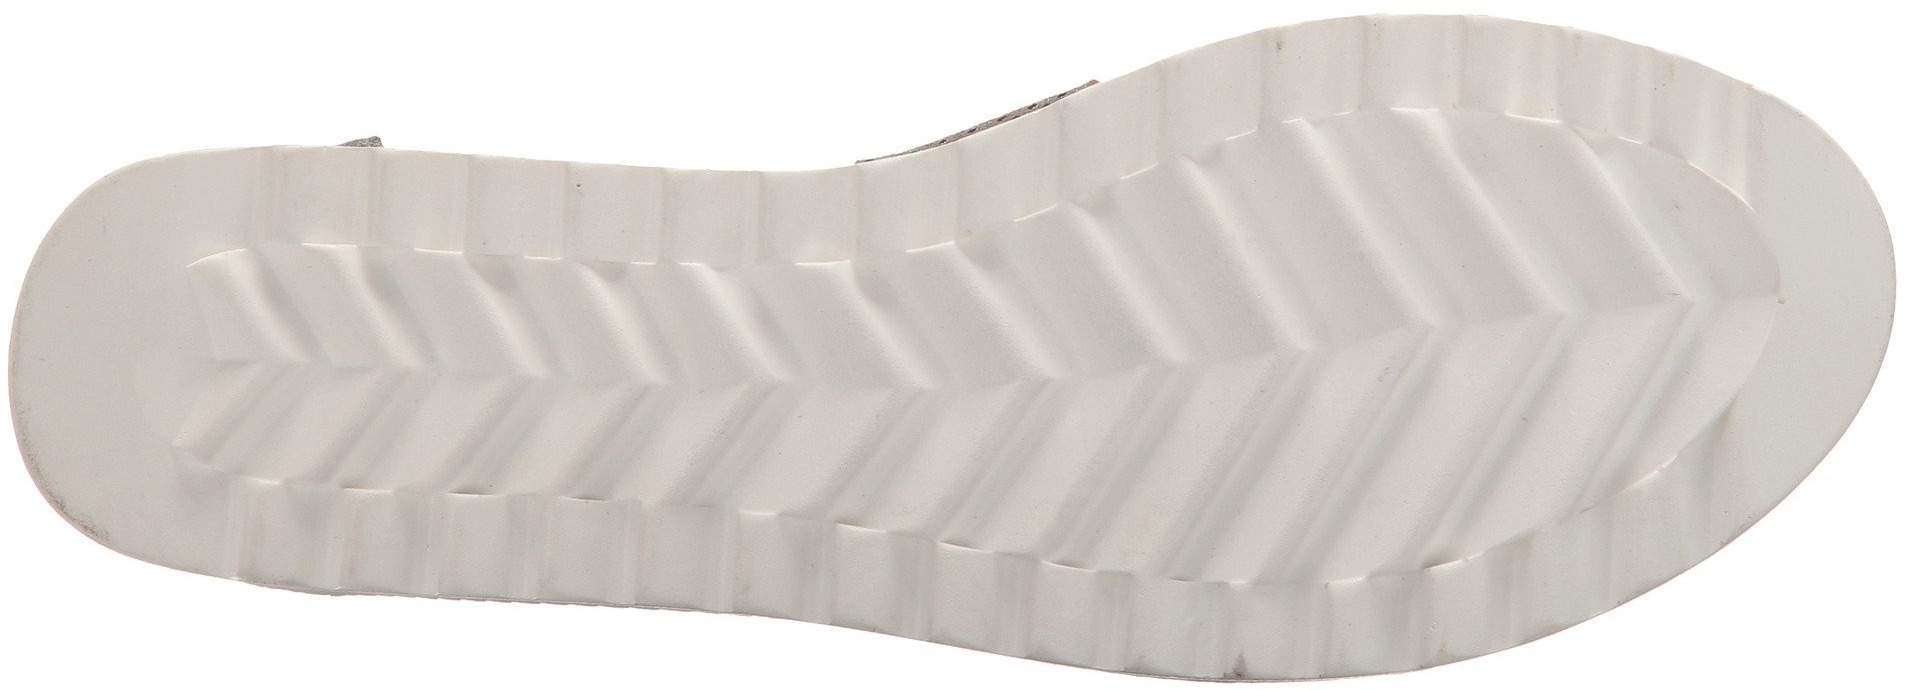chevron: (1147, 237, 1399, 486), (1407, 178, 1655, 418), (424, 247, 666, 493), (669, 261, 915, 500), (191, 238, 423, 482), (919, 277, 1144, 493)
